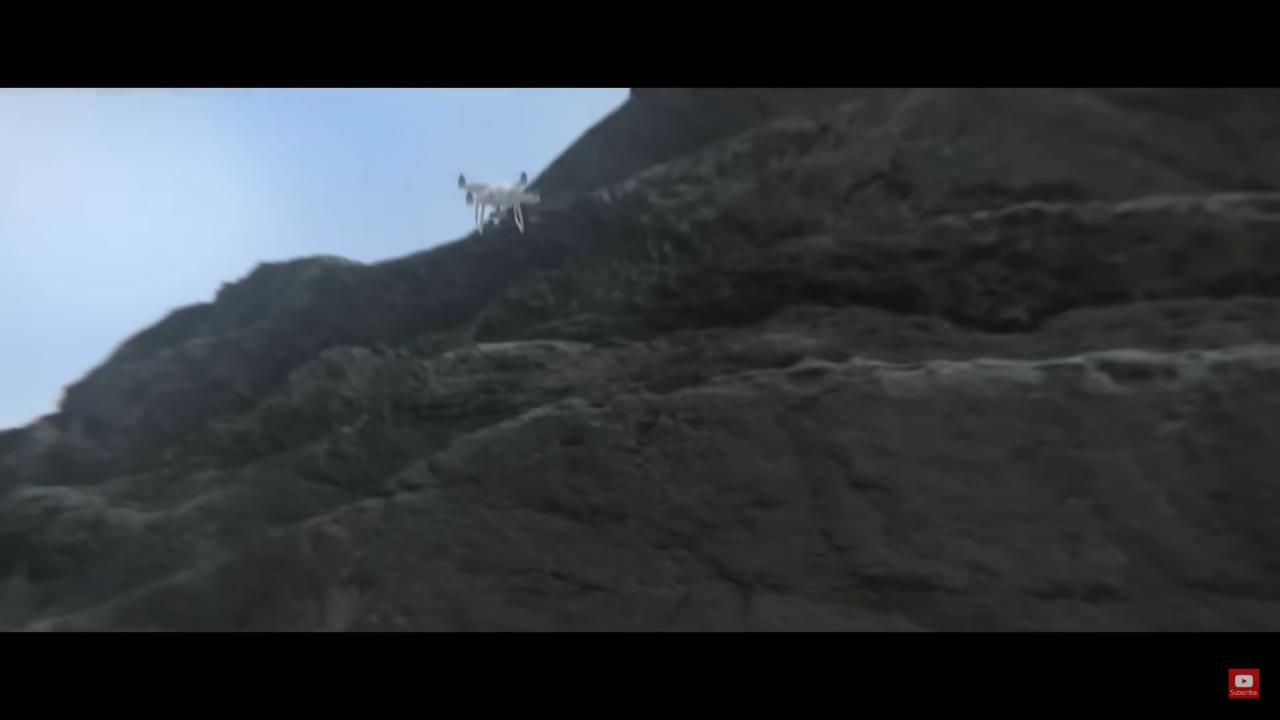Drone: (448, 155, 554, 247)
